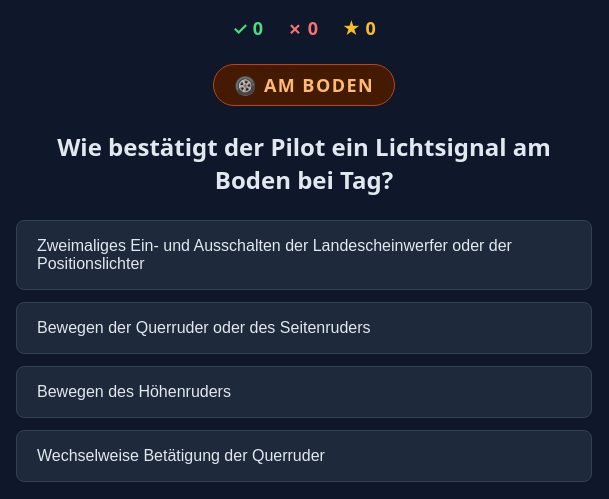
Scenario: /+page.svelte › increments score after answering
The image size is (609, 499).
Click the 1st button at (304, 255), box [16, 220, 592, 290]
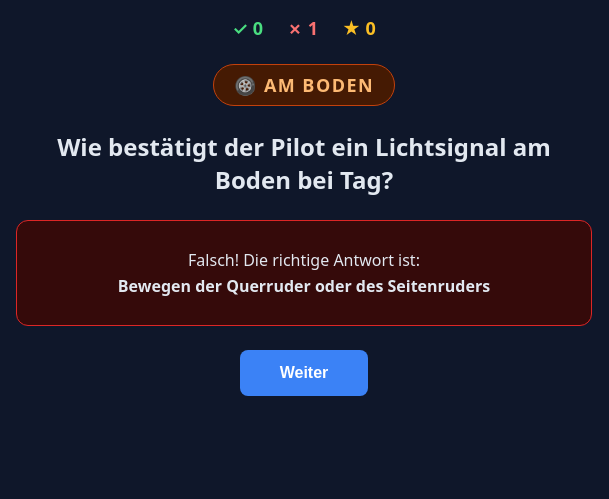
Expected: the 1st text with test id "score-correct" reads "0", [253, 16, 263, 40]
Result: the element with test id "result" is shown at [16, 220, 592, 326]
Result: the text with test id "score-incorrect" reads "1" at [308, 16, 318, 40]
